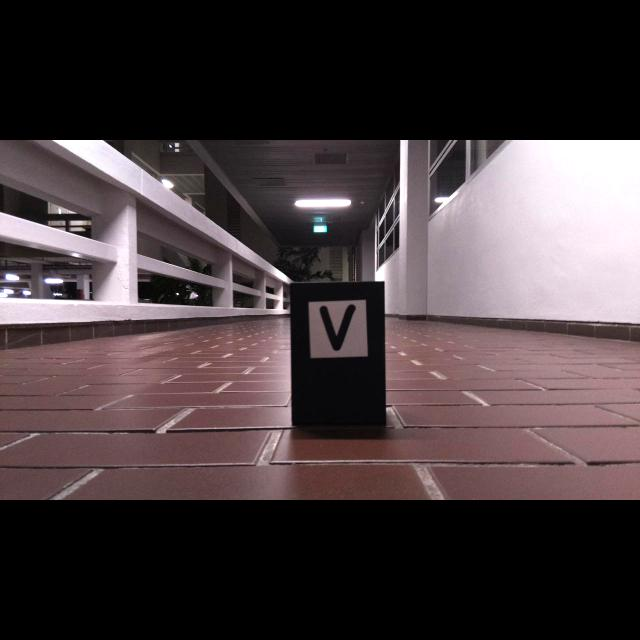V: (319, 304, 355, 351)
